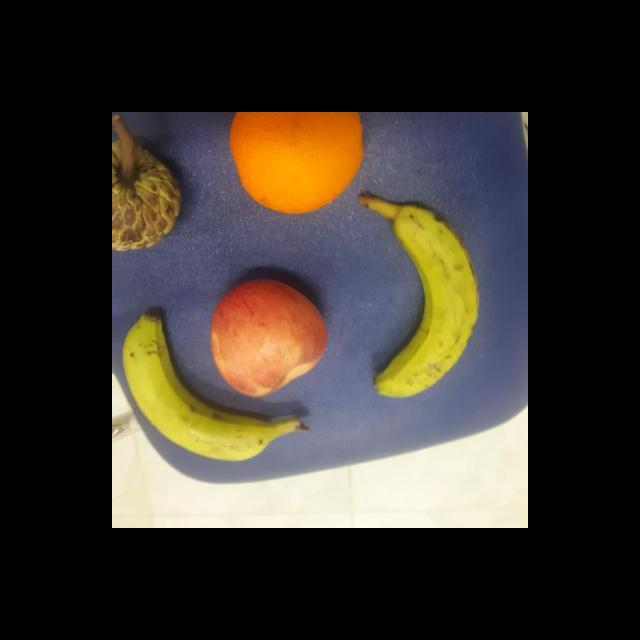Sakya fruit: (112, 138, 185, 255)
apple: (210, 274, 329, 402)
banana: (364, 204, 482, 408), (119, 308, 272, 462)
orange: (232, 112, 364, 216)
